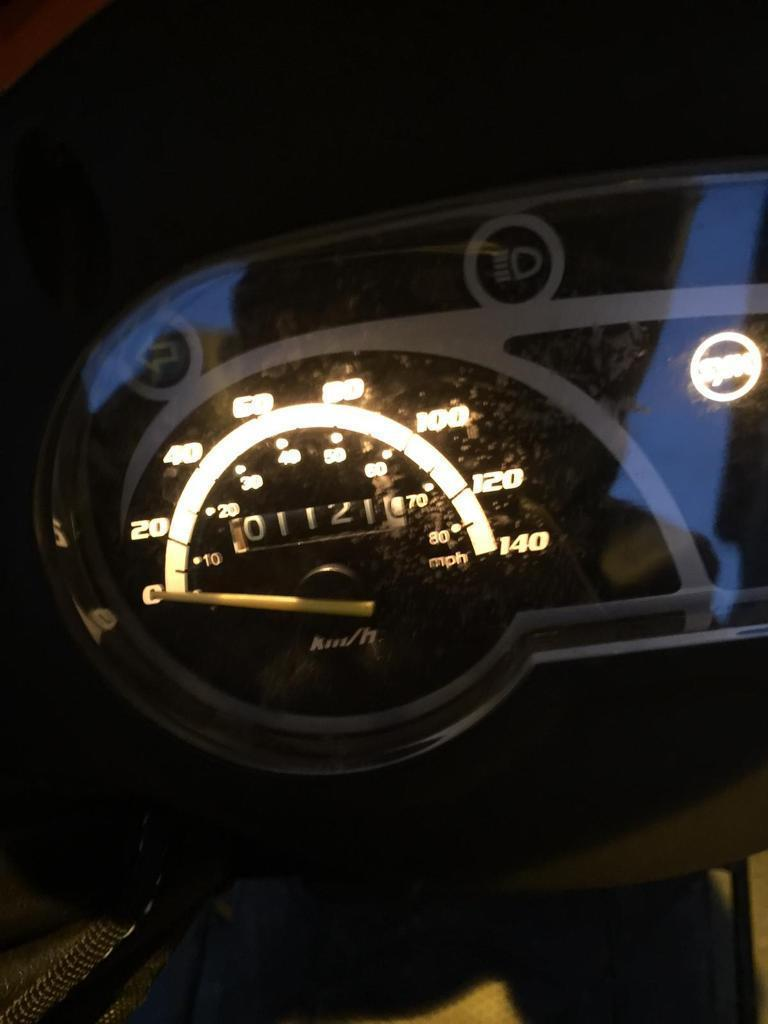0: (242, 513, 266, 542), (386, 494, 408, 521), (227, 502, 240, 516)
1: (360, 496, 376, 528), (301, 502, 317, 531), (274, 507, 287, 538)
2: (326, 498, 354, 526)
7: (405, 493, 416, 509)
odometer: (226, 493, 416, 556)
